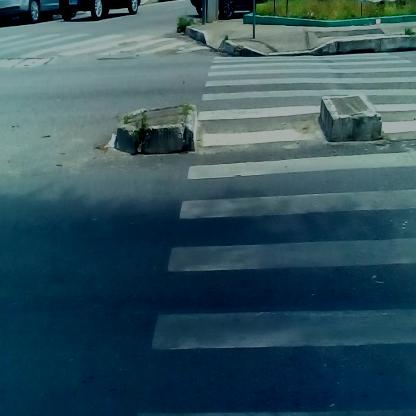crosswalk: (178, 53, 416, 416), (3, 24, 194, 72)
sidewalk: (189, 16, 416, 63)
